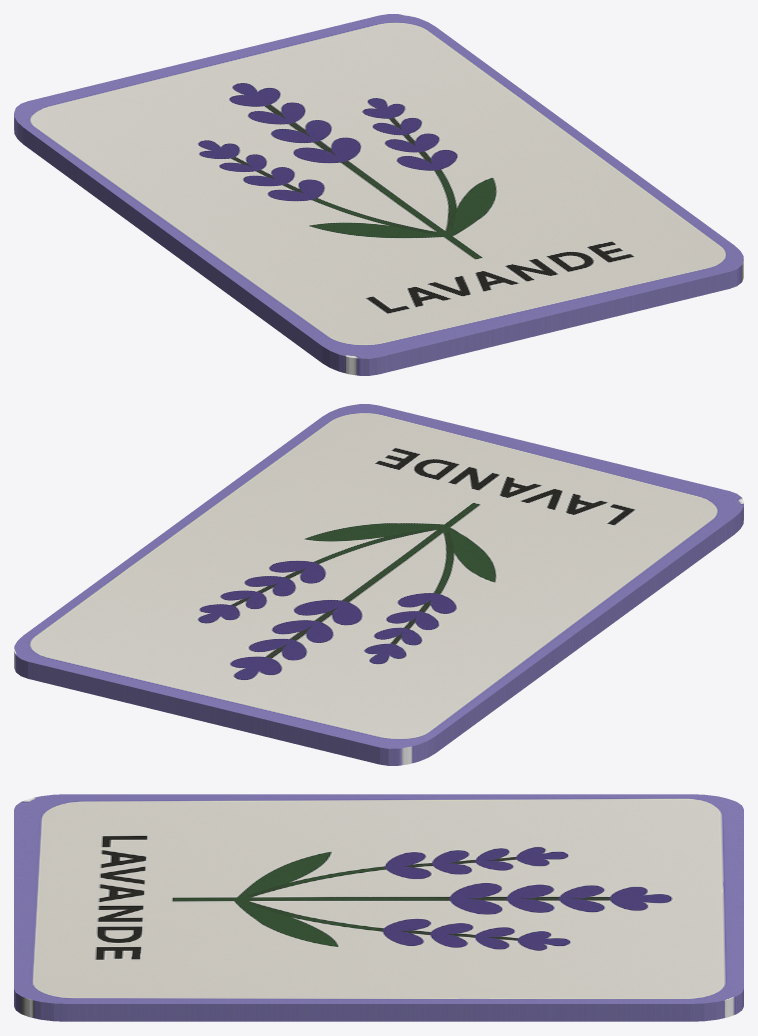
The model's file is carte3.glb.
3 renders of one model, top to bottom at view 1: azimuth 30°, elevation 25°; view 2: azimuth 150°, elevation 25°; view 3: azimuth 270°, elevation 25°, orthographic. The views are drawn at different scales.
Parts seen in each view (by area): view 1: Plane; view 2: Plane; view 3: Plane.
Boxes of the visible parts, x1,y1,x2,y2 form: Plane: [14, 14, 743, 375]; Plane: [14, 404, 743, 765]; Plane: [14, 794, 743, 1021].
Size of the model in its own units: 1.36 by 0.0539 by 2.
Materials: 2 (2 with a texture image).
